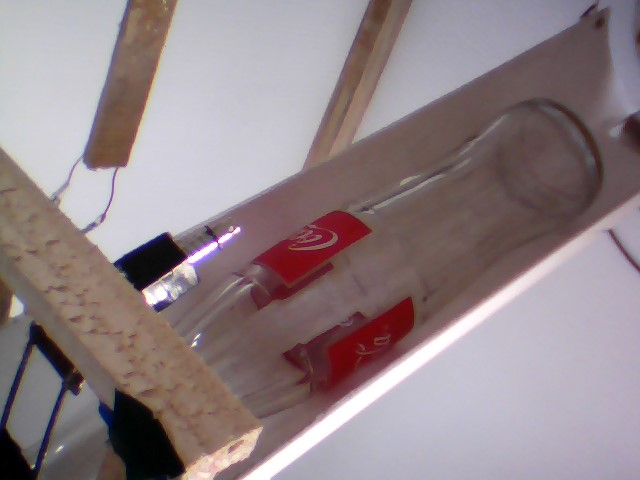vidrio: (171, 95, 607, 428)
